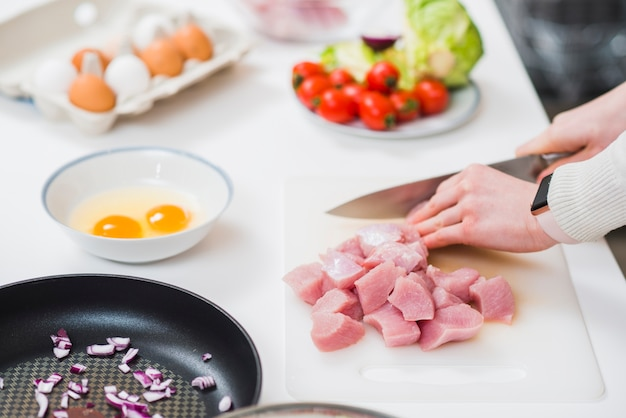knife: (328, 149, 553, 219)
